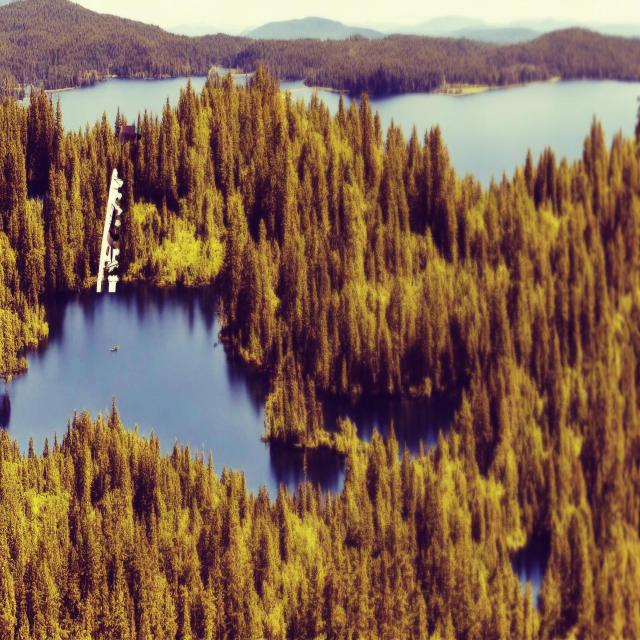airplane: (95, 167, 124, 293)
